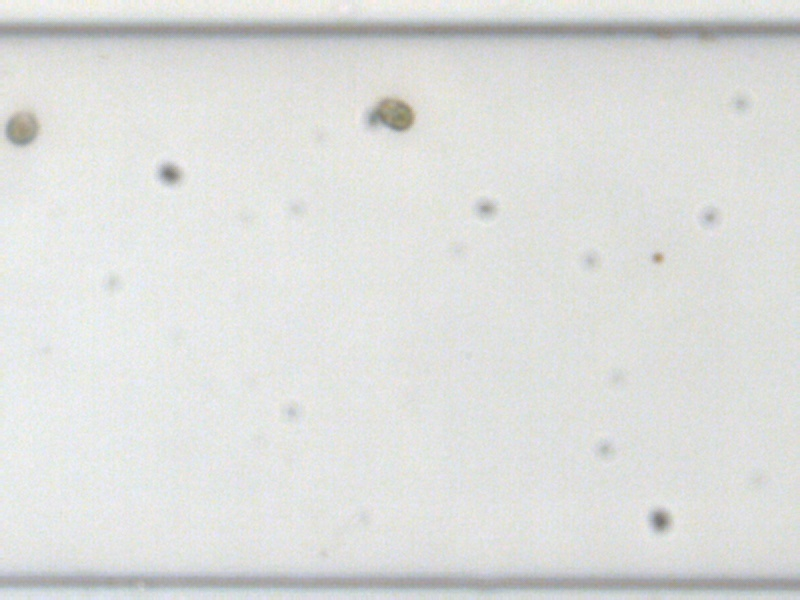Chlorella: (650, 249, 665, 265)
Dunaliella salina: (3, 106, 41, 145), (373, 95, 413, 132)
